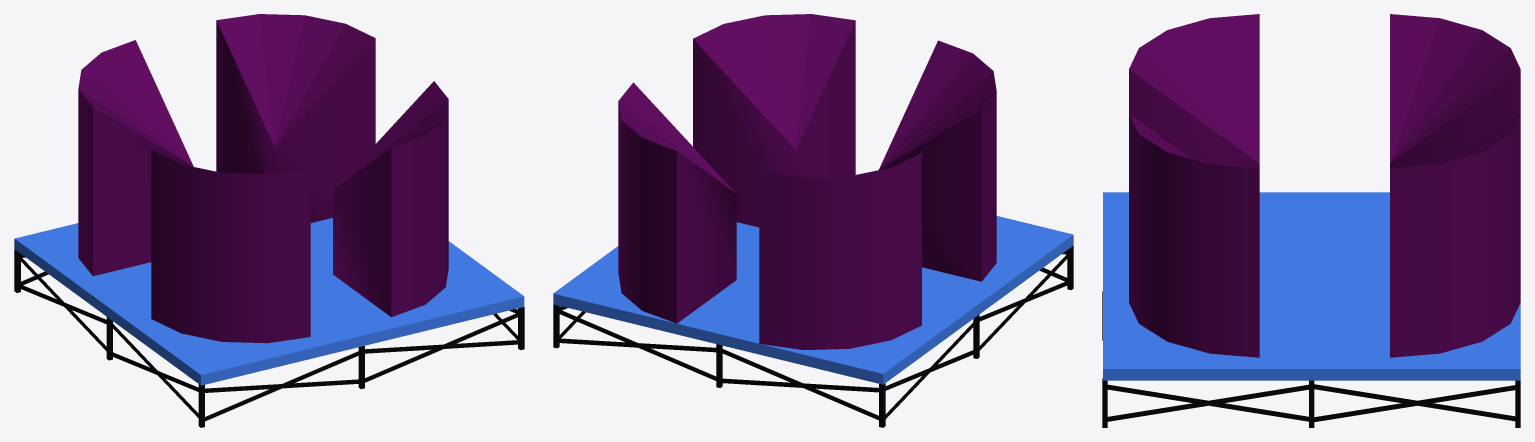
Rendered from Electrolysis.glb.
3 views of the same model, side by side, from view 1: azimuth 30°, elevation 25°; view 2: azimuth 150°, elevation 25°; view 3: azimuth 270°, elevation 25° (orthographic). The views are drawn at different scales.
Parts seen in each view (by area): view 1: Asset3DLoader.sceneRoot; view 2: Asset3DLoader.sceneRoot; view 3: Asset3DLoader.sceneRoot.
Boxes of the visible parts, x1,y1,x2,y2 form: Asset3DLoader.sceneRoot: (14,14,524,427); Asset3DLoader.sceneRoot: (553,14,1073,427); Asset3DLoader.sceneRoot: (1102,14,1520,427).
Size of the model in its own units: 8 by 5.25 by 8.01.
